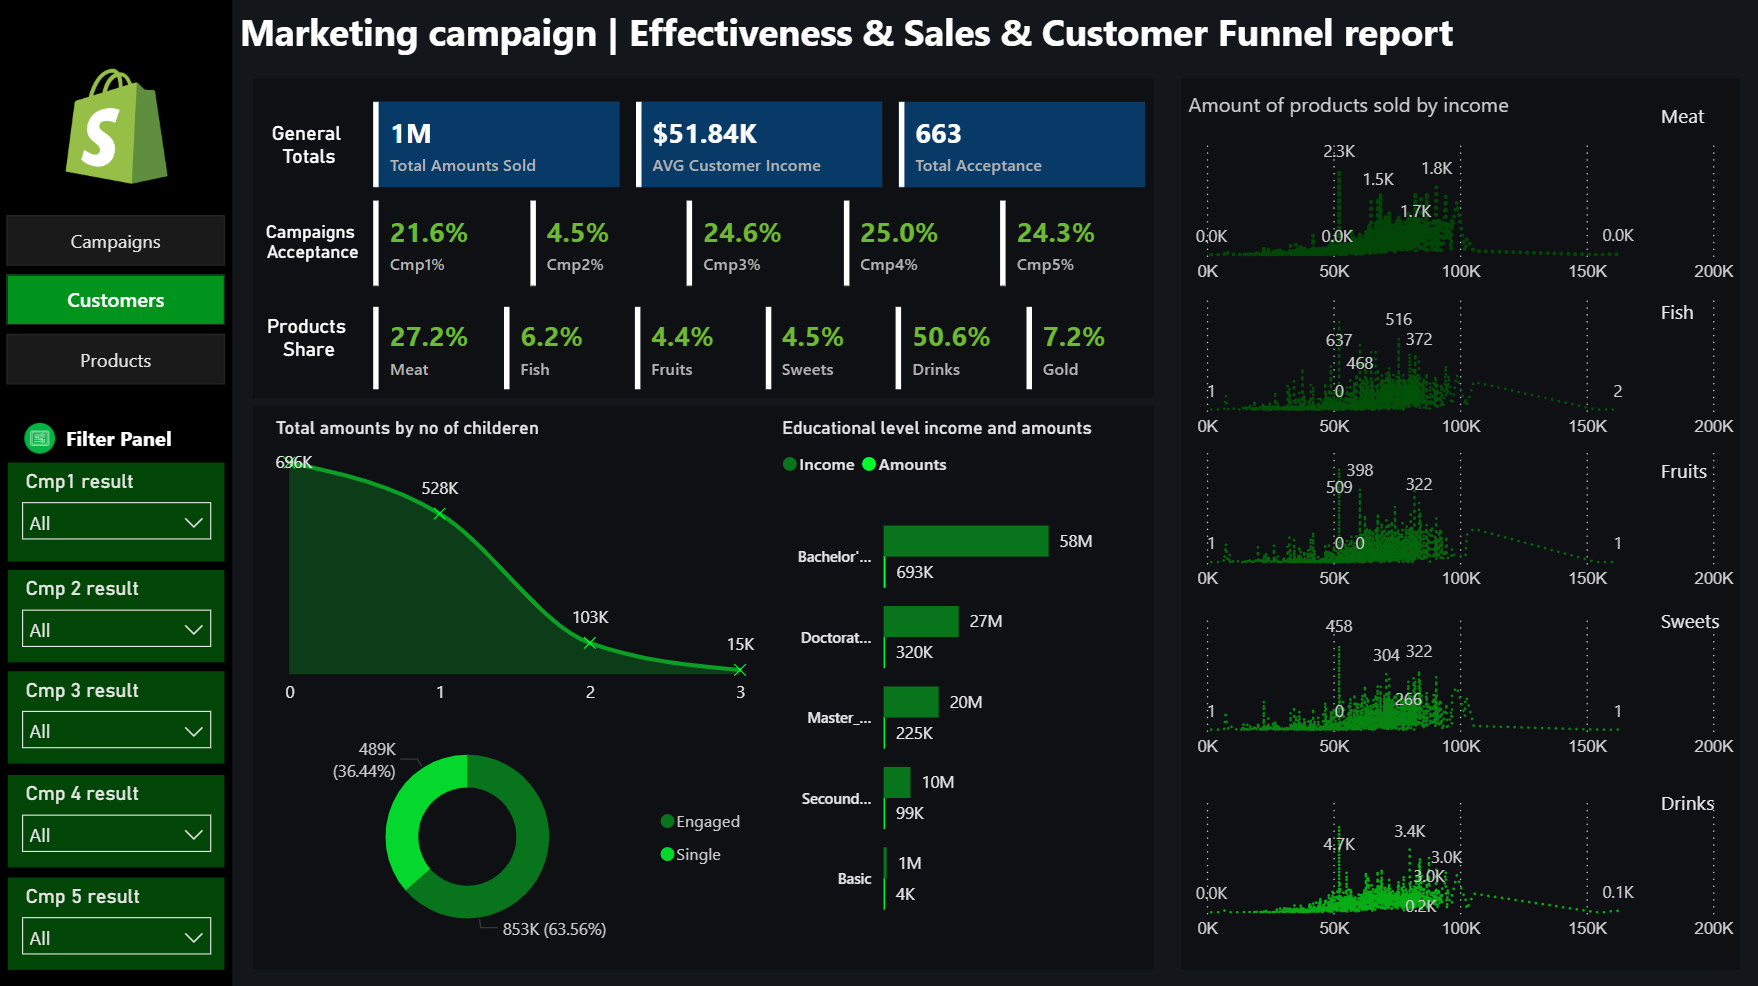

The page's visual inventory and layout, read from the dashboard file:
{"tool":"powerbi","page":{"name":"Customers","canvas":[1280,720],"ordinal":1},"visuals":[{"type":"shape","box":[0,0,169.7,720.6],"z":0},{"type":"textbox","box":[169.7,0,1080.1,57.1],"z":1000},{"type":"shape","box":[184.8,57.1,655.1,232],"z":2000},{"type":"cardVisual","fields":{"Data":["DimProducts.Total Amounts","DimCustomer.AVG Income","DimCampains.Total acceptance"]},"box":[267.1,68.9,572.8,72.2],"z":3000},{"type":"card","fields":{"Values":["FactCustomerPurchases.General totals"]},"box":[184.8,72.2,82.3,68.9],"z":4000},{"type":"cardVisual","fields":{"Data":["DimCampains.Cmp1 Acceptance%","DimCampains.Cmp2 Acceptance%","DimCampains.Cmp3 Acceptance%","DimCampains.Cmp4 Acceptance%","DimCampains.Cmp5 Acceptance%"]},"box":[267.1,141.1,572.8,72.2],"z":5000},{"type":"card","fields":{"Values":["DimCampains.Campaign Acceptance %"]},"box":[171,142.8,115,68.9],"z":6000},{"type":"cardVisual","fields":{"Data":["DimProducts.Meat share %","DimProducts.Fish share %","DimProducts.Fruits share %","DimProducts.Sweets share %","DimProducts.Drinks share %","DimProducts.Gold share %"]},"box":[267.1,218.4,572.8,70.6],"z":7000},{"type":"card","fields":{"Values":["DimProducts.Products Share"]},"box":[184.8,211.7,82.3,68.9],"z":8000},{"type":"shape","box":[184.8,295.6,655.1,409.9],"z":9000},{"type":"shape","box":[860.1,57.1,406.5,648.4],"z":10000},{"type":"lineChart","fields":{"Category":["DimCustomer.Income"],"Y":["Sum(DimProducts.Amount_Meat)"]},"box":[863.4,90.7,403.1,122.6],"z":11000},{"type":"textbox","box":[860.1,60.5,262,38.6],"z":12000},{"type":"image","box":[43.7,35.3,84,112.5],"z":13000},{"type":"slicer","fields":{"Values":["DimCampains.Cmp1 result"]},"box":[6.7,336,157.9,72.2],"z":14000},{"type":"slicer","fields":{"Values":["DimCampains.Cmp 2 result"]},"box":[6.7,414.6,157.9,67.2],"z":15000},{"type":"slicer","fields":{"Values":["DimCampains.Cmp 3 result"]},"box":[6.7,488.5,157.9,67.2],"z":16000},{"type":"slicer","fields":{"Values":["DimCampains.Cmp 4 result"]},"box":[6.7,564.1,157.9,67.2],"z":17000},{"type":"slicer","fields":{"Values":["DimCampains.Cmp 5 result"]},"box":[6.7,638.3,157.9,67.2],"z":18000},{"type":"textbox","box":[43.7,304,97.4,42],"z":19000},{"type":"image","box":[13.4,302.4,31.9,31.9],"z":20000},{"type":"lineChart","fields":{"Category":["DimCustomer.Income"],"Y":["Sum(DimProducts.Amount_Fish)"]},"box":[863.4,203.3,403.1,122.6],"z":21000},{"type":"lineChart","fields":{"Category":["DimCustomer.Income"],"Y":["Sum(DimProducts.Amount_Fruits)"]},"box":[863.4,314.1,403.1,122.6],"z":22000},{"type":"lineChart","fields":{"Category":["DimCustomer.Income"],"Y":["Sum(DimProducts.Amount_Sweet)"]},"box":[863.4,436.7,403.1,122.6],"z":23000},{"type":"lineChart","fields":{"Category":["DimCustomer.Income"],"Y":["Sum(DimProducts.Amount_Drinks)"]},"box":[863.4,569.4,403.1,122.6],"z":24000},{"type":"donutChart","fields":{"Category":["DimCustomer.Relationship_Status"],"Y":["DimProducts.Total Amounts"]},"box":[196.5,525.8,357.8,166.3],"z":25000},{"type":"lineChart","title":"Total amounts by no of childeren","fields":{"Category":["DimCustomer.No.Of_Children"],"Y":["DimProducts.Total Amounts"]},"box":[196.5,304,357.8,218.4],"z":26000},{"type":"textbox","box":[1204,68.9,55.4,35.3],"z":27000},{"type":"clusteredBarChart","title":"Educational level income and amounts","fields":{"Category":["DimCustomer.Educational_Level"],"Y":["Sum(DimCustomer.Income)","DimProducts.Total Amounts"]},"box":[564.4,304,263.7,388],"z":28000},{"type":"textbox","box":[1204,211.7,55.4,35.3],"z":29000},{"type":"textbox","box":[1204,327.6,55.4,35.3],"z":30000},{"type":"textbox","box":[1204,436.7,55.4,35.3],"z":31000},{"type":"textbox","box":[1204,569.4,55.4,35.3],"z":32000},{"type":"pageNavigator","box":[5,156.2,159.6,124.3],"z":33000}]}

Visuals, with their boxes on the page's 1280x720 design canvas (x1, y1, x2, y2). These are canvas units, not pixel positions in the 1758x986 screenshot, which may show the page scaled, cropped or inside an application window:
shape: <region>0, 0, 170, 721</region>
textbox: <region>170, 0, 1250, 57</region>
shape: <region>185, 57, 840, 289</region>
cardVisual - DimProducts.Total Amounts x DimCustomer.AVG Income: <region>267, 69, 840, 141</region>
card - FactCustomerPurchases.General totals: <region>185, 72, 267, 141</region>
cardVisual - DimCampains.Cmp1 Acceptance% x DimCampains.Cmp2 Acceptance%: <region>267, 141, 840, 213</region>
card - DimCampains.Campaign Acceptance %: <region>171, 143, 286, 212</region>
cardVisual - DimProducts.Meat share % x DimProducts.Fish share %: <region>267, 218, 840, 289</region>
card - DimProducts.Products Share: <region>185, 212, 267, 281</region>
shape: <region>185, 296, 840, 706</region>
shape: <region>860, 57, 1267, 706</region>
lineChart - DimCustomer.Income x Sum(DimProducts.Amount_Meat): <region>863, 91, 1266, 213</region>
textbox: <region>860, 60, 1122, 99</region>
image: <region>44, 35, 128, 148</region>
slicer - DimCampains.Cmp1 result: <region>7, 336, 165, 408</region>
slicer - DimCampains.Cmp 2 result: <region>7, 415, 165, 482</region>
slicer - DimCampains.Cmp 3 result: <region>7, 488, 165, 556</region>
slicer - DimCampains.Cmp 4 result: <region>7, 564, 165, 631</region>
slicer - DimCampains.Cmp 5 result: <region>7, 638, 165, 706</region>
textbox: <region>44, 304, 141, 346</region>
image: <region>13, 302, 45, 334</region>
lineChart - DimCustomer.Income x Sum(DimProducts.Amount_Fish): <region>863, 203, 1266, 326</region>
lineChart - DimCustomer.Income x Sum(DimProducts.Amount_Fruits): <region>863, 314, 1266, 437</region>
lineChart - DimCustomer.Income x Sum(DimProducts.Amount_Sweet): <region>863, 437, 1266, 559</region>
lineChart - DimCustomer.Income x Sum(DimProducts.Amount_Drinks): <region>863, 569, 1266, 692</region>
donutChart - DimCustomer.Relationship_Status x DimProducts.Total Amounts: <region>196, 526, 554, 692</region>
"Total amounts by no of childeren" lineChart: <region>196, 304, 554, 522</region>
textbox: <region>1204, 69, 1259, 104</region>
"Educational level income and amounts" clusteredBarChart: <region>564, 304, 828, 692</region>
textbox: <region>1204, 212, 1259, 247</region>
textbox: <region>1204, 328, 1259, 363</region>
textbox: <region>1204, 437, 1259, 472</region>
textbox: <region>1204, 569, 1259, 605</region>
pageNavigator: <region>5, 156, 165, 280</region>
